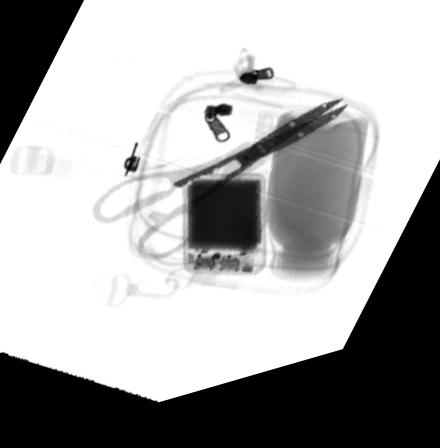Powerbank: (183, 187, 268, 295)
Scissors: (89, 114, 350, 274)
